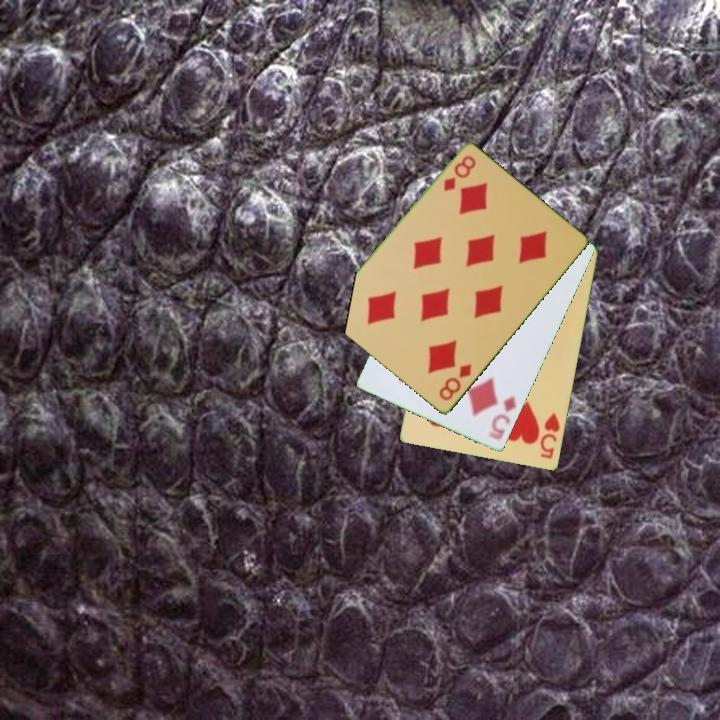5d: (485, 392, 519, 443)
5h: (537, 410, 563, 462)
8d: (435, 361, 475, 404), (440, 152, 479, 195)
